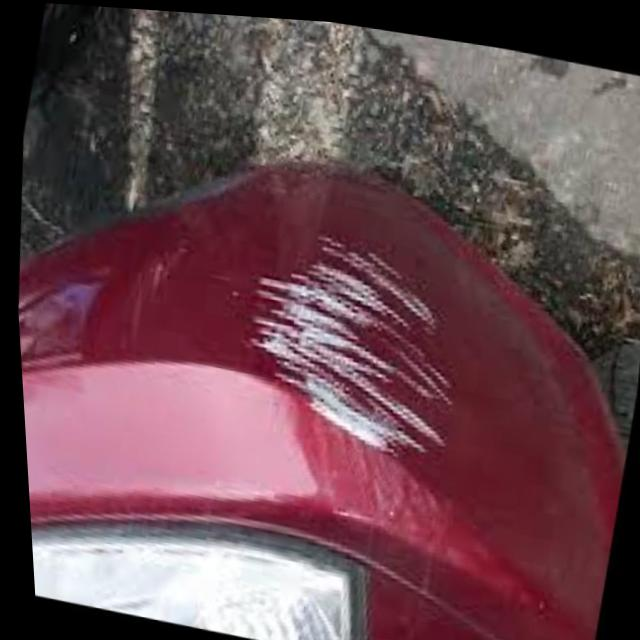Scratch: (230, 217, 474, 463)
